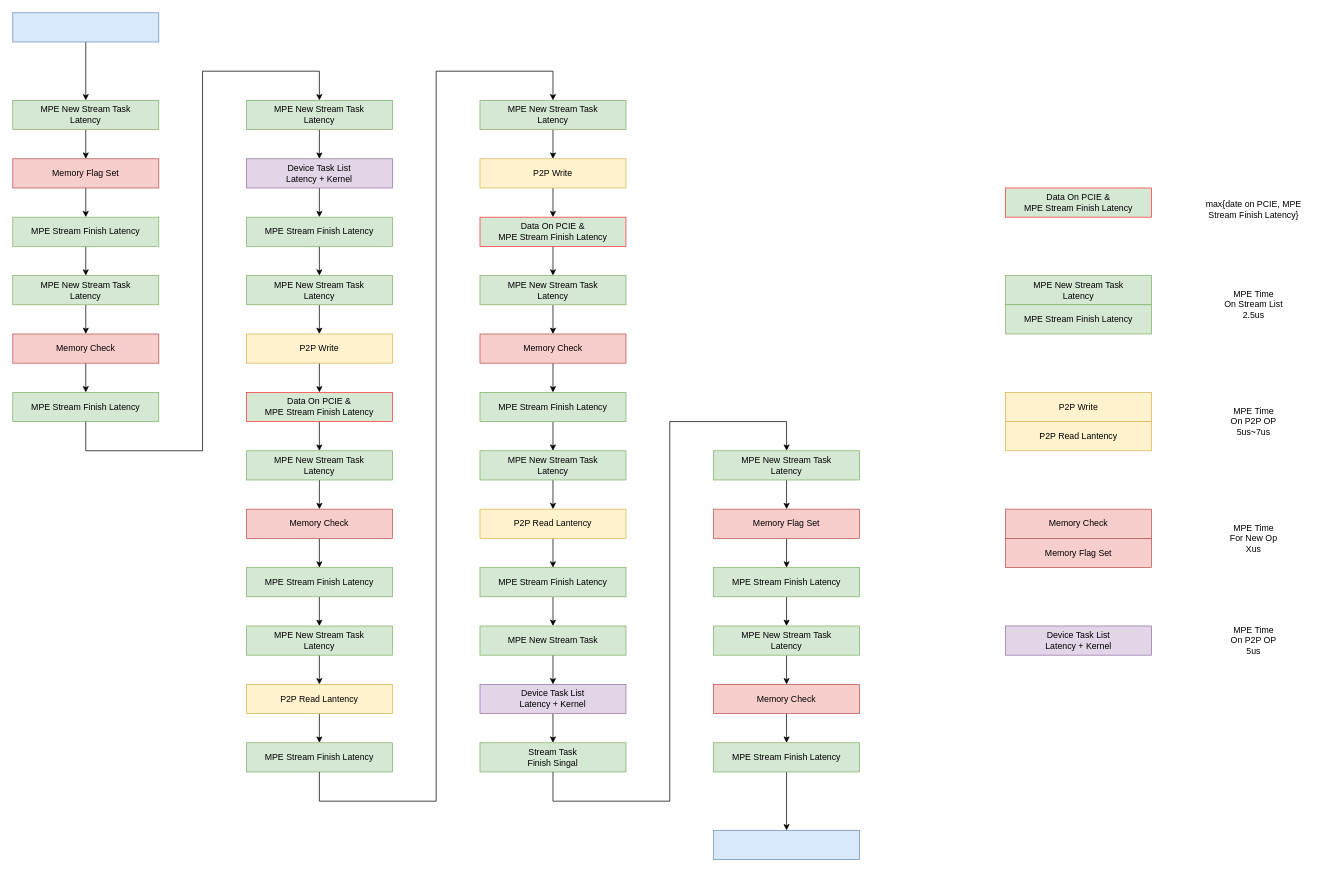
Image size: 1325x872. Some labels were removed from this diagram. Here are the shapes that lost their labels. From the top down, the centre of each, then its label:
At (x=85, y=27): "Send Task To Stream List From Host".
At (x=786, y=845): "Get the Finish Signal From Device".
